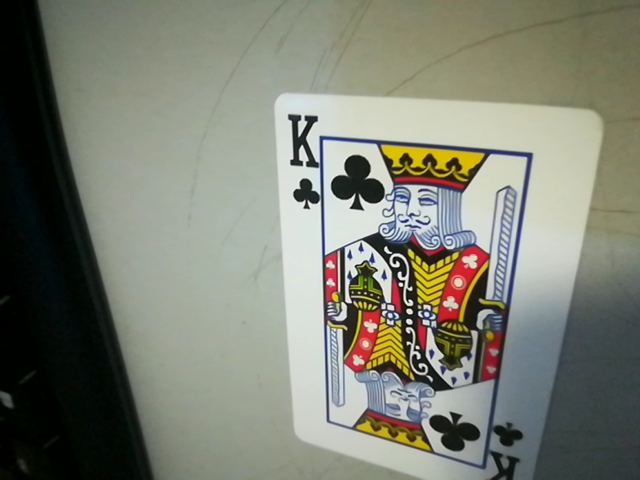mh k: (276, 102, 327, 217)
